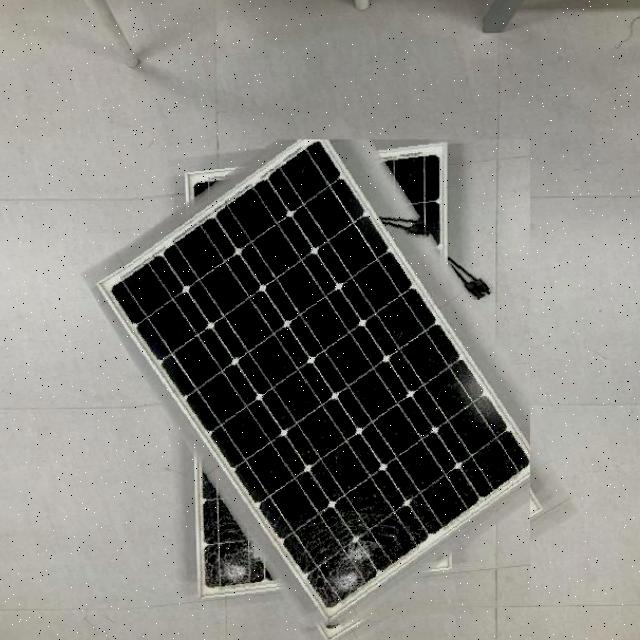Structural Damage: (212, 503, 376, 600)
